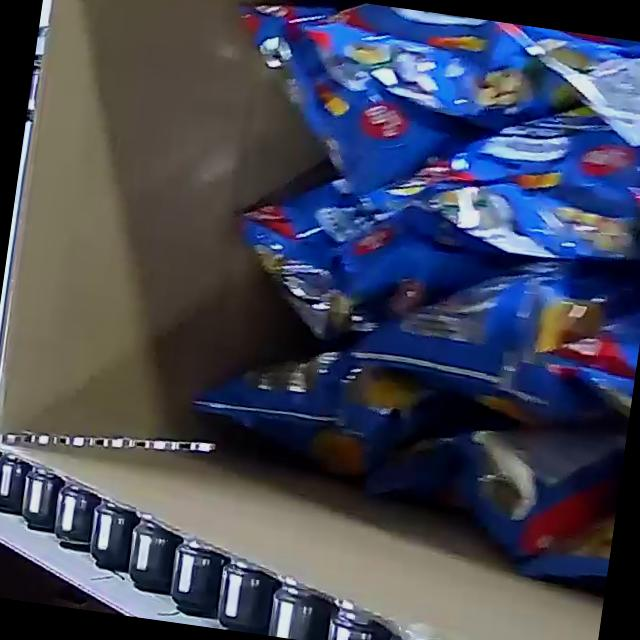paprika: (159, 0, 640, 598)
